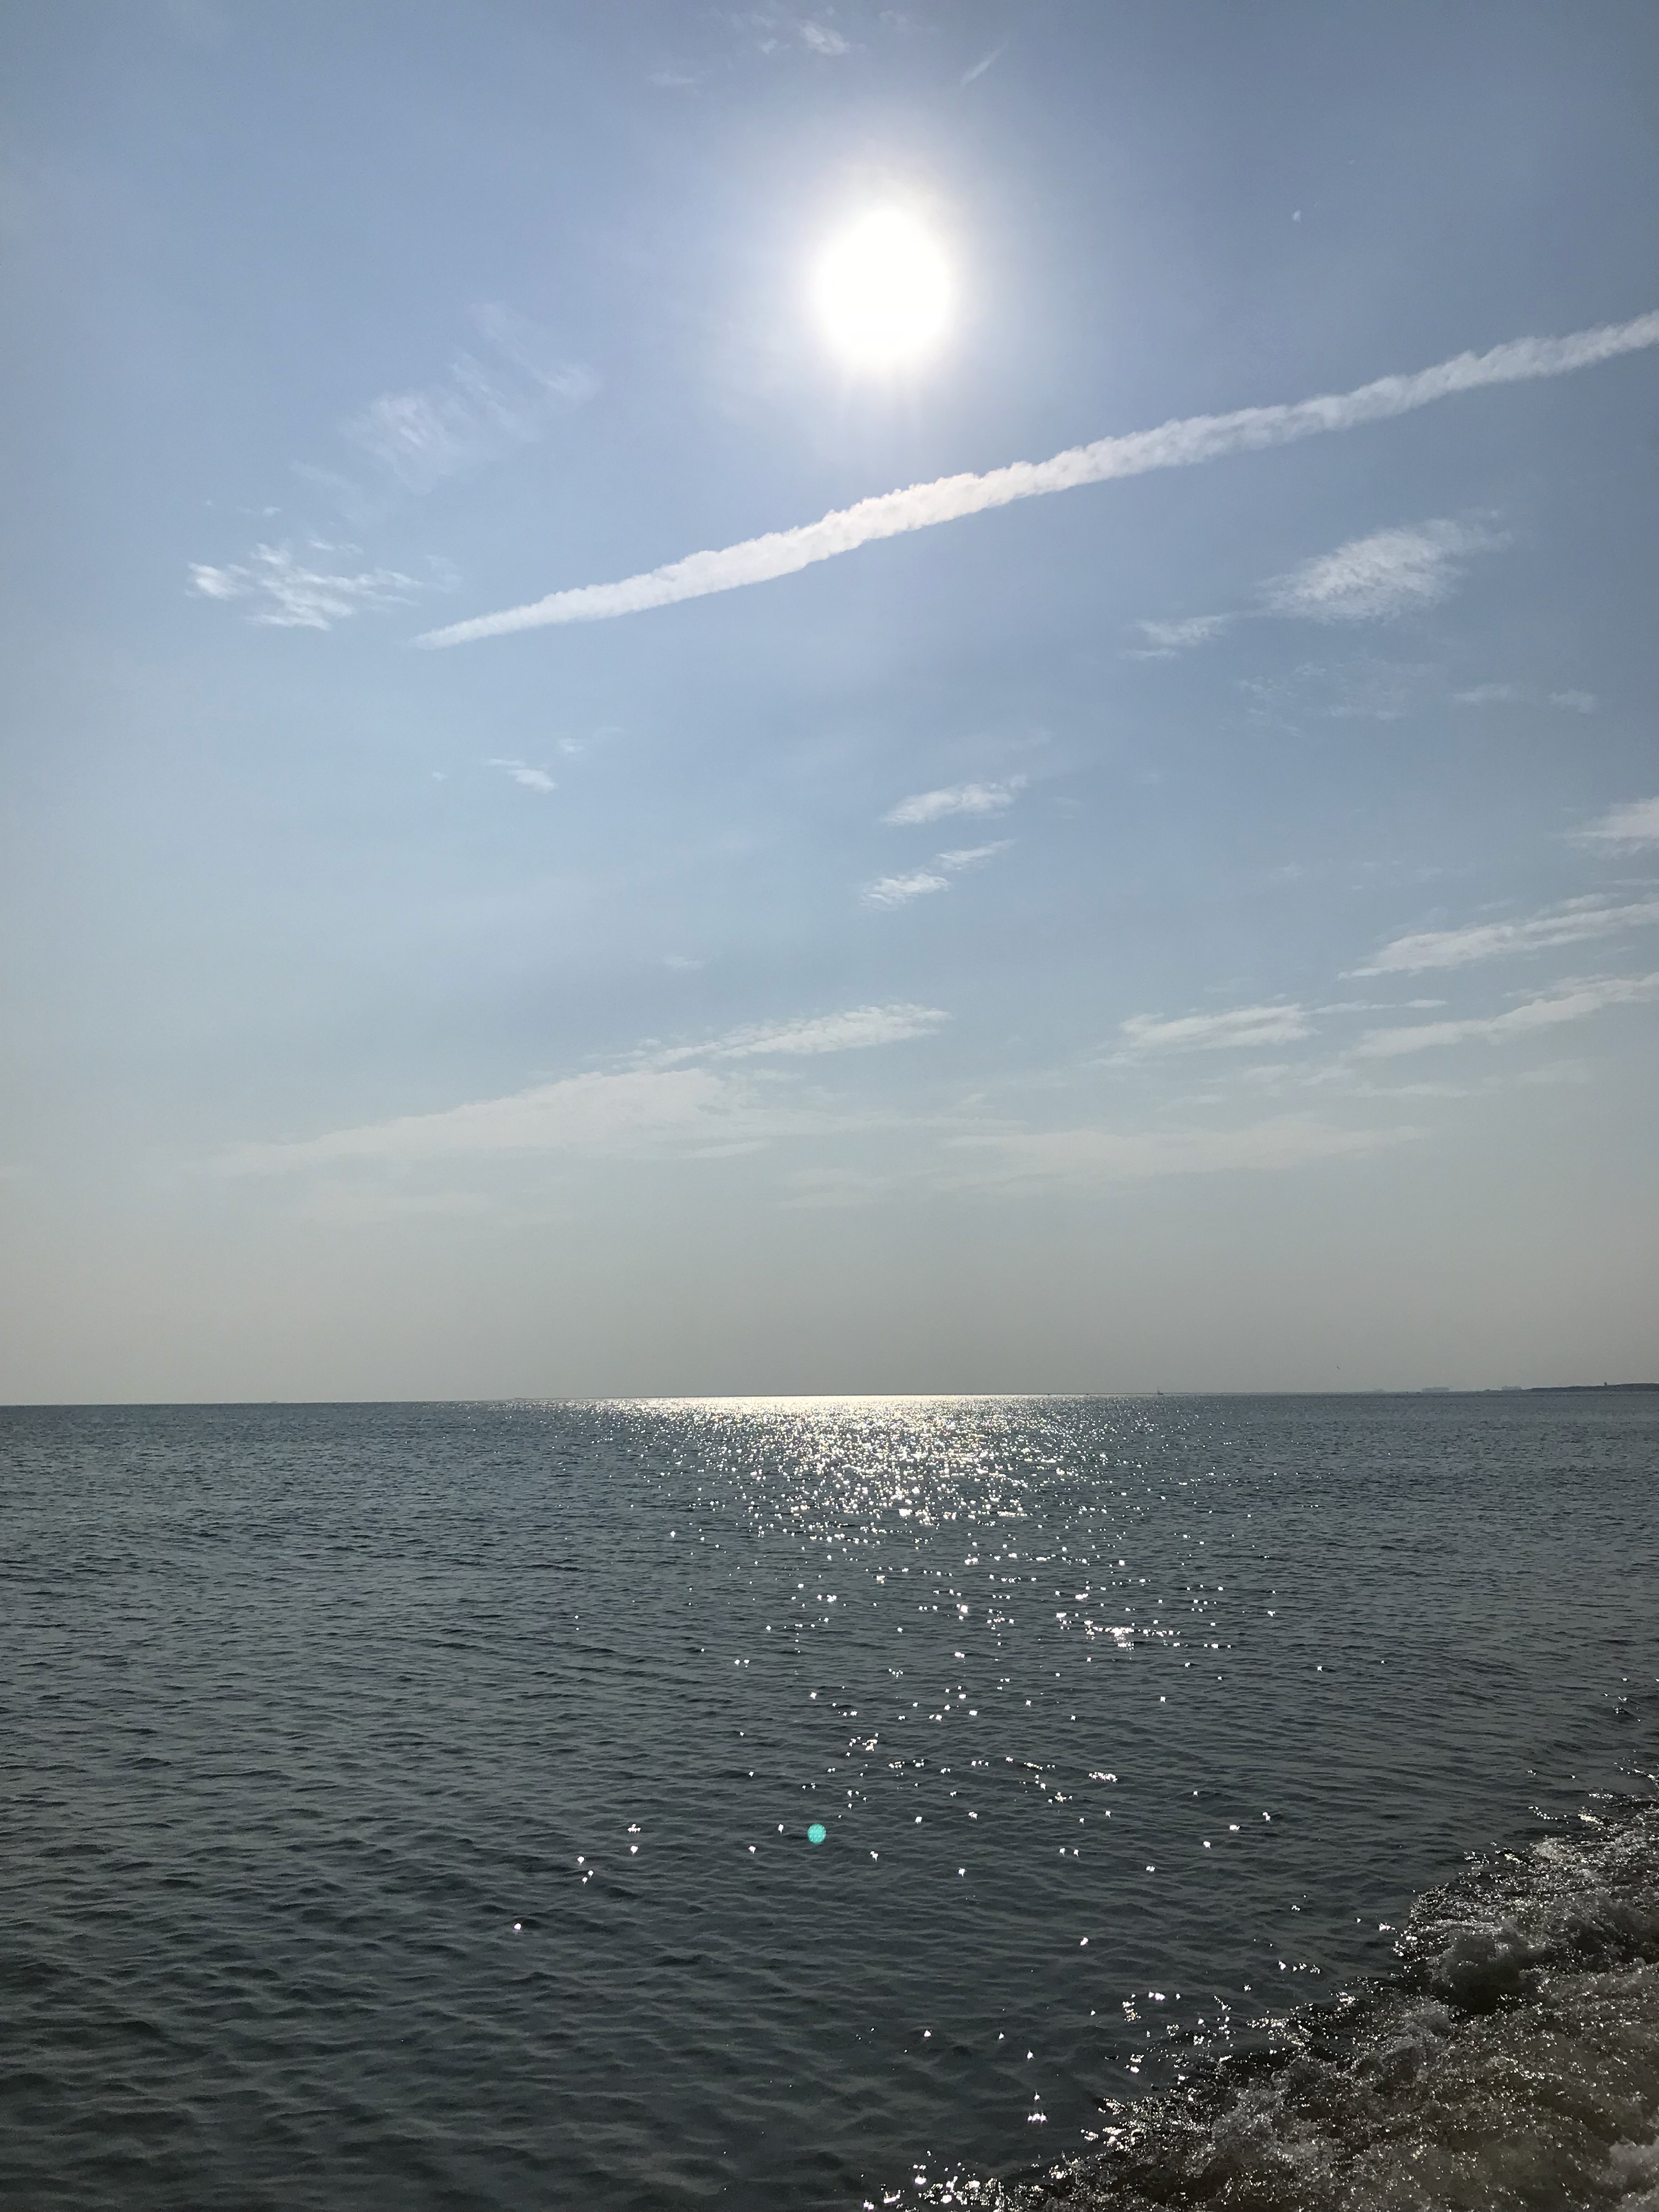flare: (805, 1822, 830, 1846)
